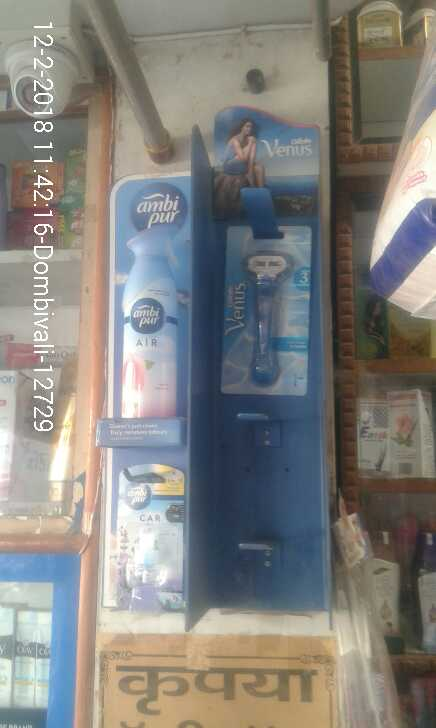beauty: (222, 224, 309, 398)
home: (115, 226, 181, 423), (114, 468, 182, 603)
